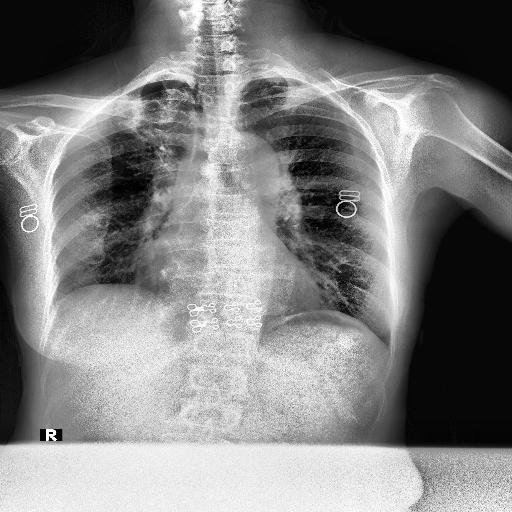0- Aortic enlargement: (222, 132, 280, 206), (224, 134, 282, 200), (217, 132, 280, 192)
11- Pleural thickening: (152, 72, 188, 94), (264, 77, 284, 85)
13- Pulmonary fibrosis: (122, 88, 182, 142), (124, 94, 178, 154)
3- Cardiomegaly: (142, 242, 318, 318), (144, 247, 316, 312)
